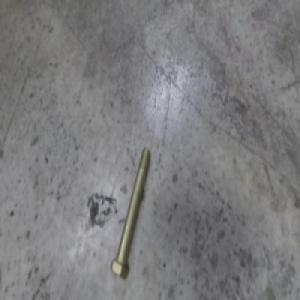Bolt: (115, 153, 151, 268)
